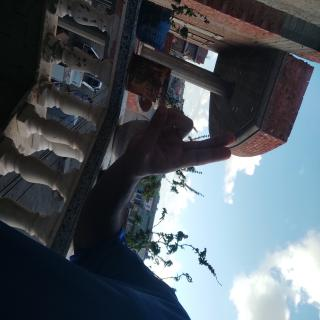TA: (78, 109, 152, 284)
